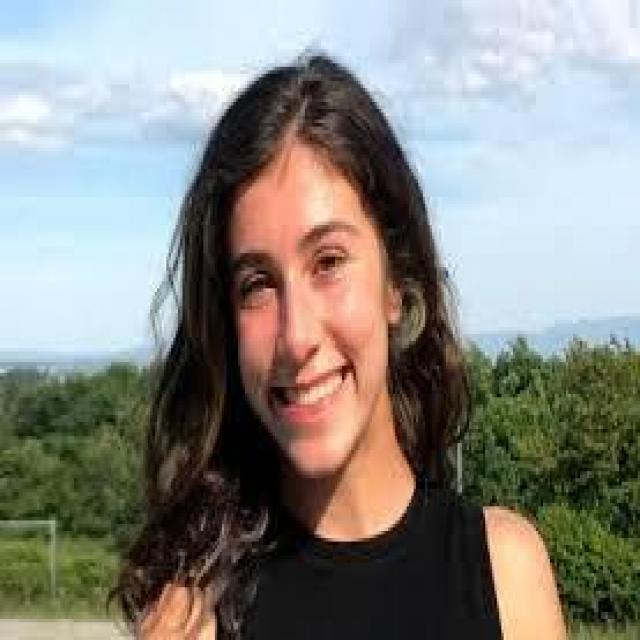person: (124, 53, 570, 636)
